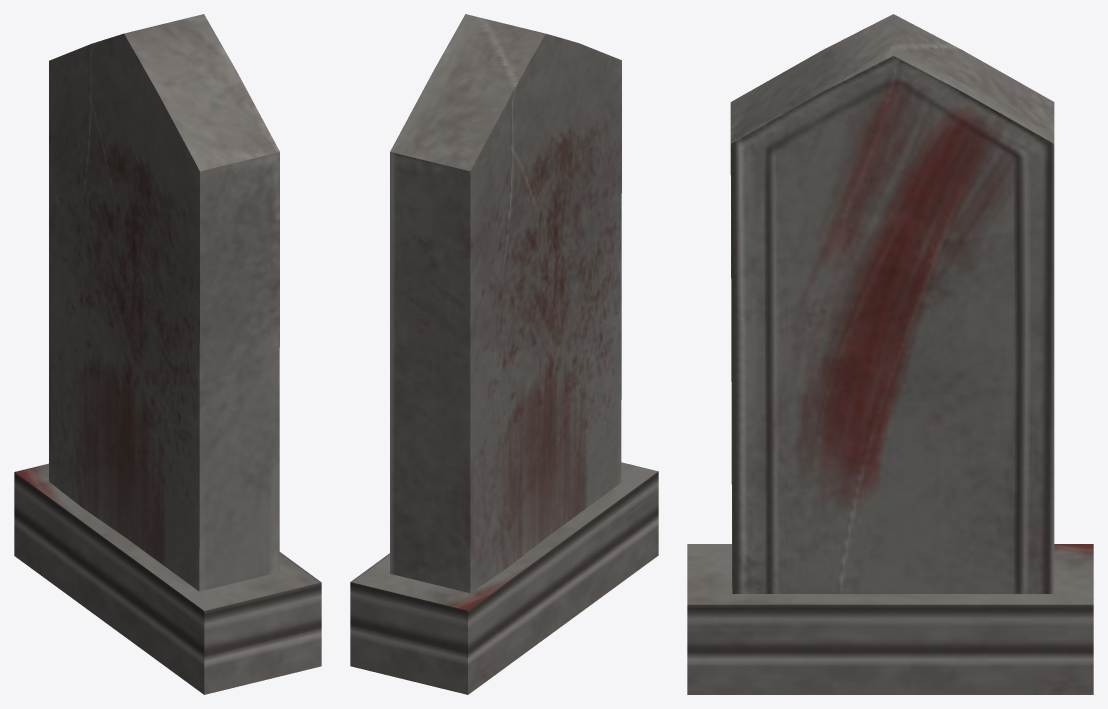
Rendered from fancy_tombstone_2_.fbx.
3 renders of one model, left to right at view 1: azimuth 30°, elevation 25°; view 2: azimuth 150°, elevation 25°; view 3: azimuth 270°, elevation 25°, orthographic. The views are drawn at different scales.
Visible parts, largest first — view 1: Fancy_Tombstone_2; view 2: Fancy_Tombstone_2; view 3: Fancy_Tombstone_2.
Boxes of the visible parts, x1,y1,x2,y2 form: Fancy_Tombstone_2: [14, 14, 321, 694]; Fancy_Tombstone_2: [350, 14, 658, 694]; Fancy_Tombstone_2: [687, 14, 1093, 694].
Bounding box in the file's own units: 1.32 × 6.3 × 3.7.
